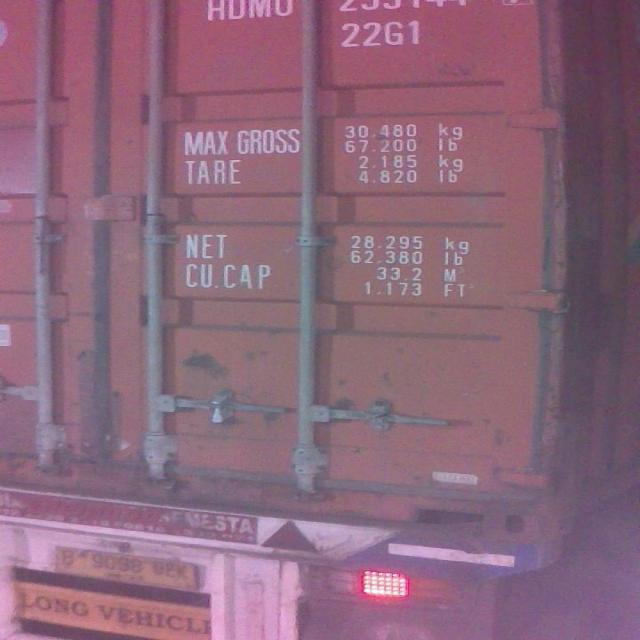seal: (206, 398, 230, 426)
